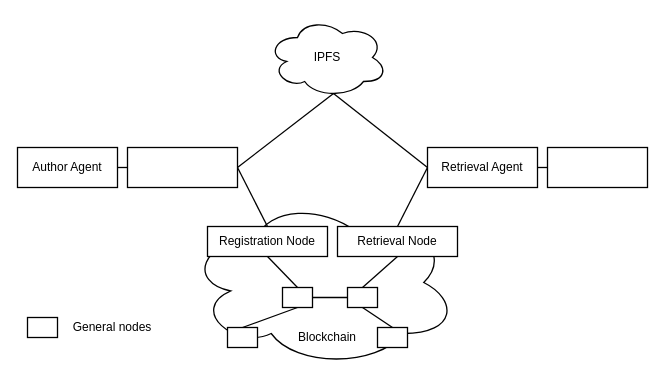
Some shapes in this 666 by 386 pixel diagram are drawn without their labels. The box of each missing label's shape, as (x1, y1, x2, y2) in pixels:
Device: (546, 146, 648, 188)
Registration Agent: (126, 146, 238, 188)
